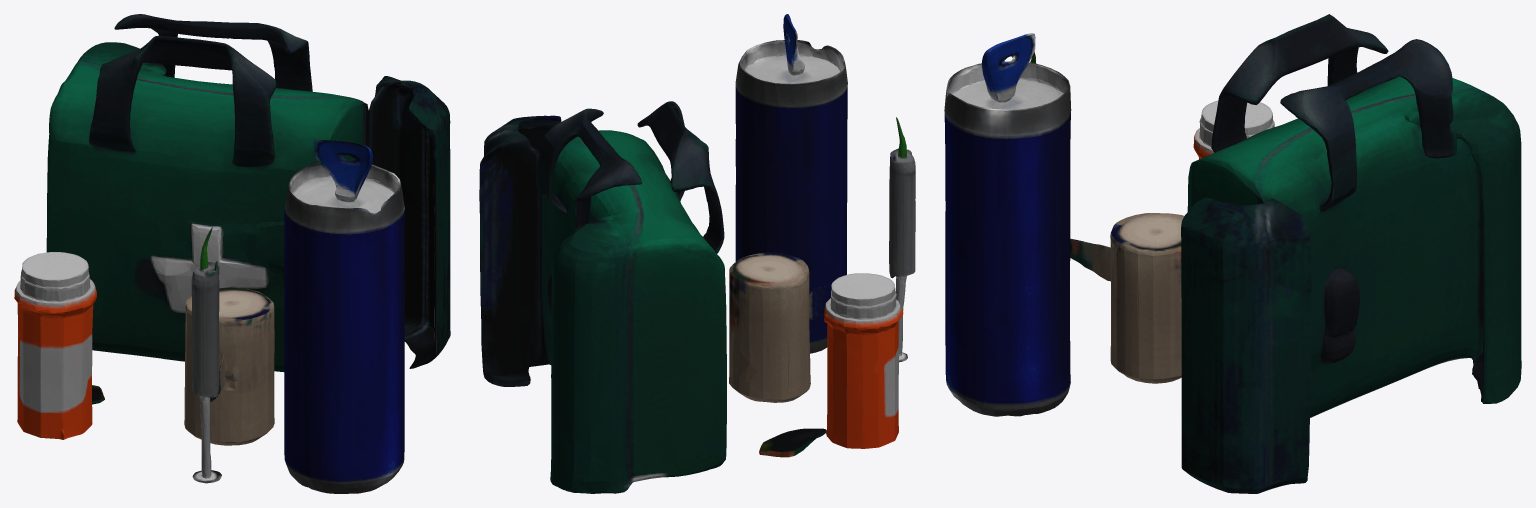
Rendered from treatment-kidney-stone.glb.
3 views of the same model, side by side, from view 1: azimuth 30°, elevation 25°; view 2: azimuth 150°, elevation 25°; view 3: azimuth 270°, elevation 25° (orthographic). The views are drawn at different scales.
Visible parts, largest first — view 1: Treatment; view 2: Treatment; view 3: Treatment.
Boxes of the visible parts, box(x1,y1,x2,y2) form: Treatment: box(14, 14, 450, 493); Treatment: box(479, 14, 915, 493); Treatment: box(944, 14, 1521, 493).
Bounding box in the file's own units: 0.9097 × 0.6899 × 0.9929.
Materials: 1 (1 with a texture image).
